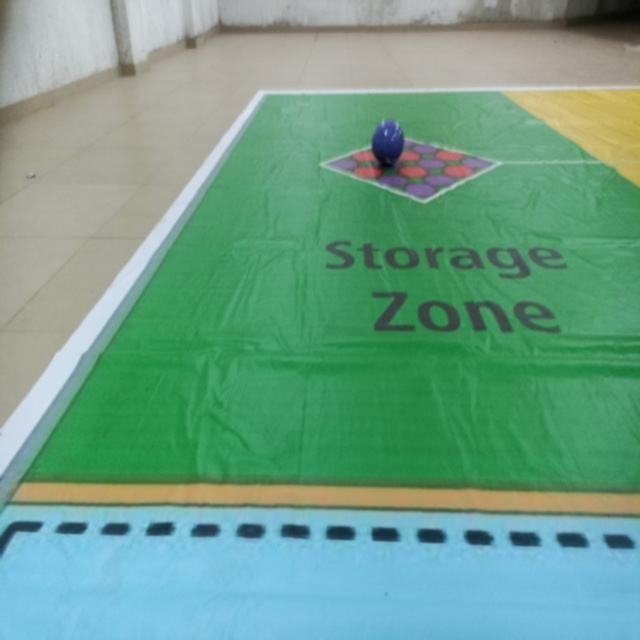purple_ball: (372, 118, 405, 168)
